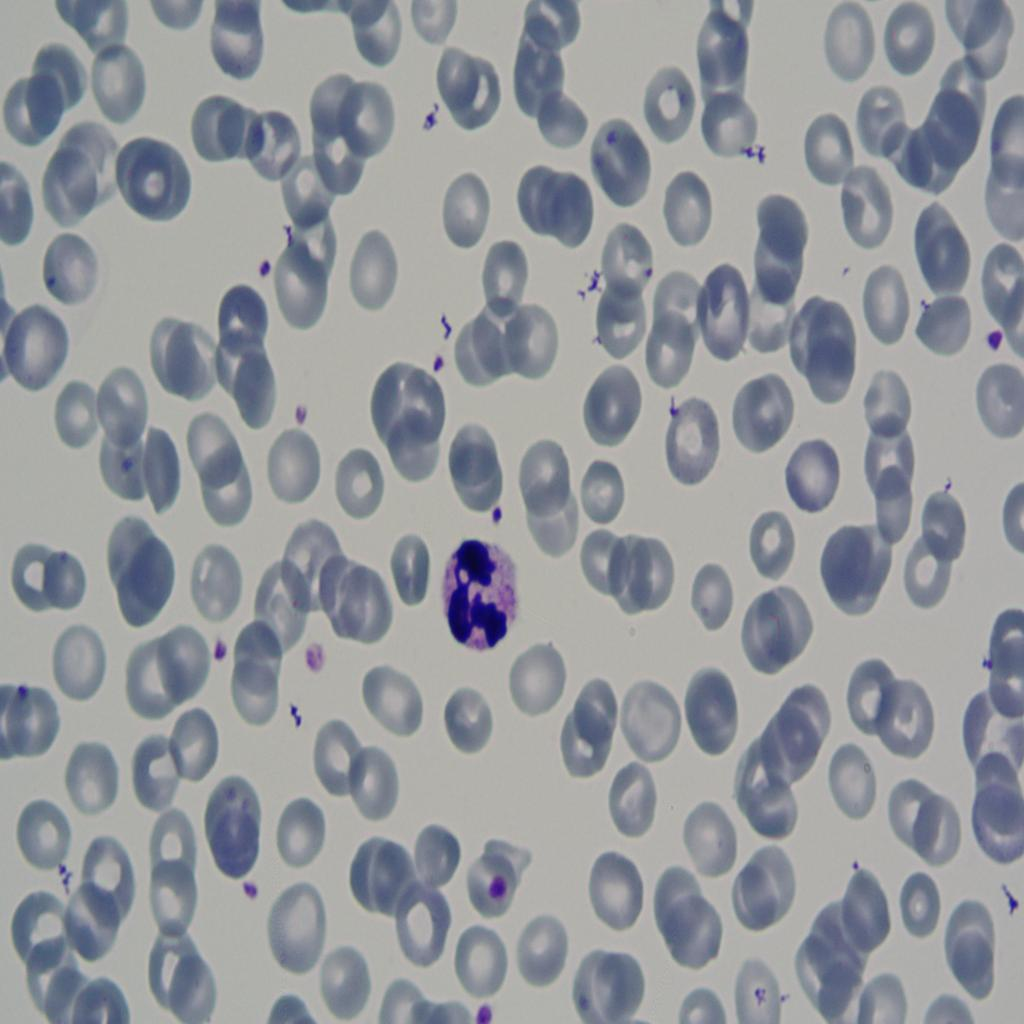Neutrofil: (439, 526, 522, 663)
Platelet: (287, 396, 321, 440), (600, 121, 636, 159), (985, 318, 1013, 362), (299, 635, 327, 674), (235, 872, 264, 907), (417, 101, 441, 143), (488, 870, 511, 913), (248, 243, 276, 278), (486, 491, 511, 529), (208, 633, 230, 670), (469, 1002, 501, 1024), (428, 344, 448, 371)
